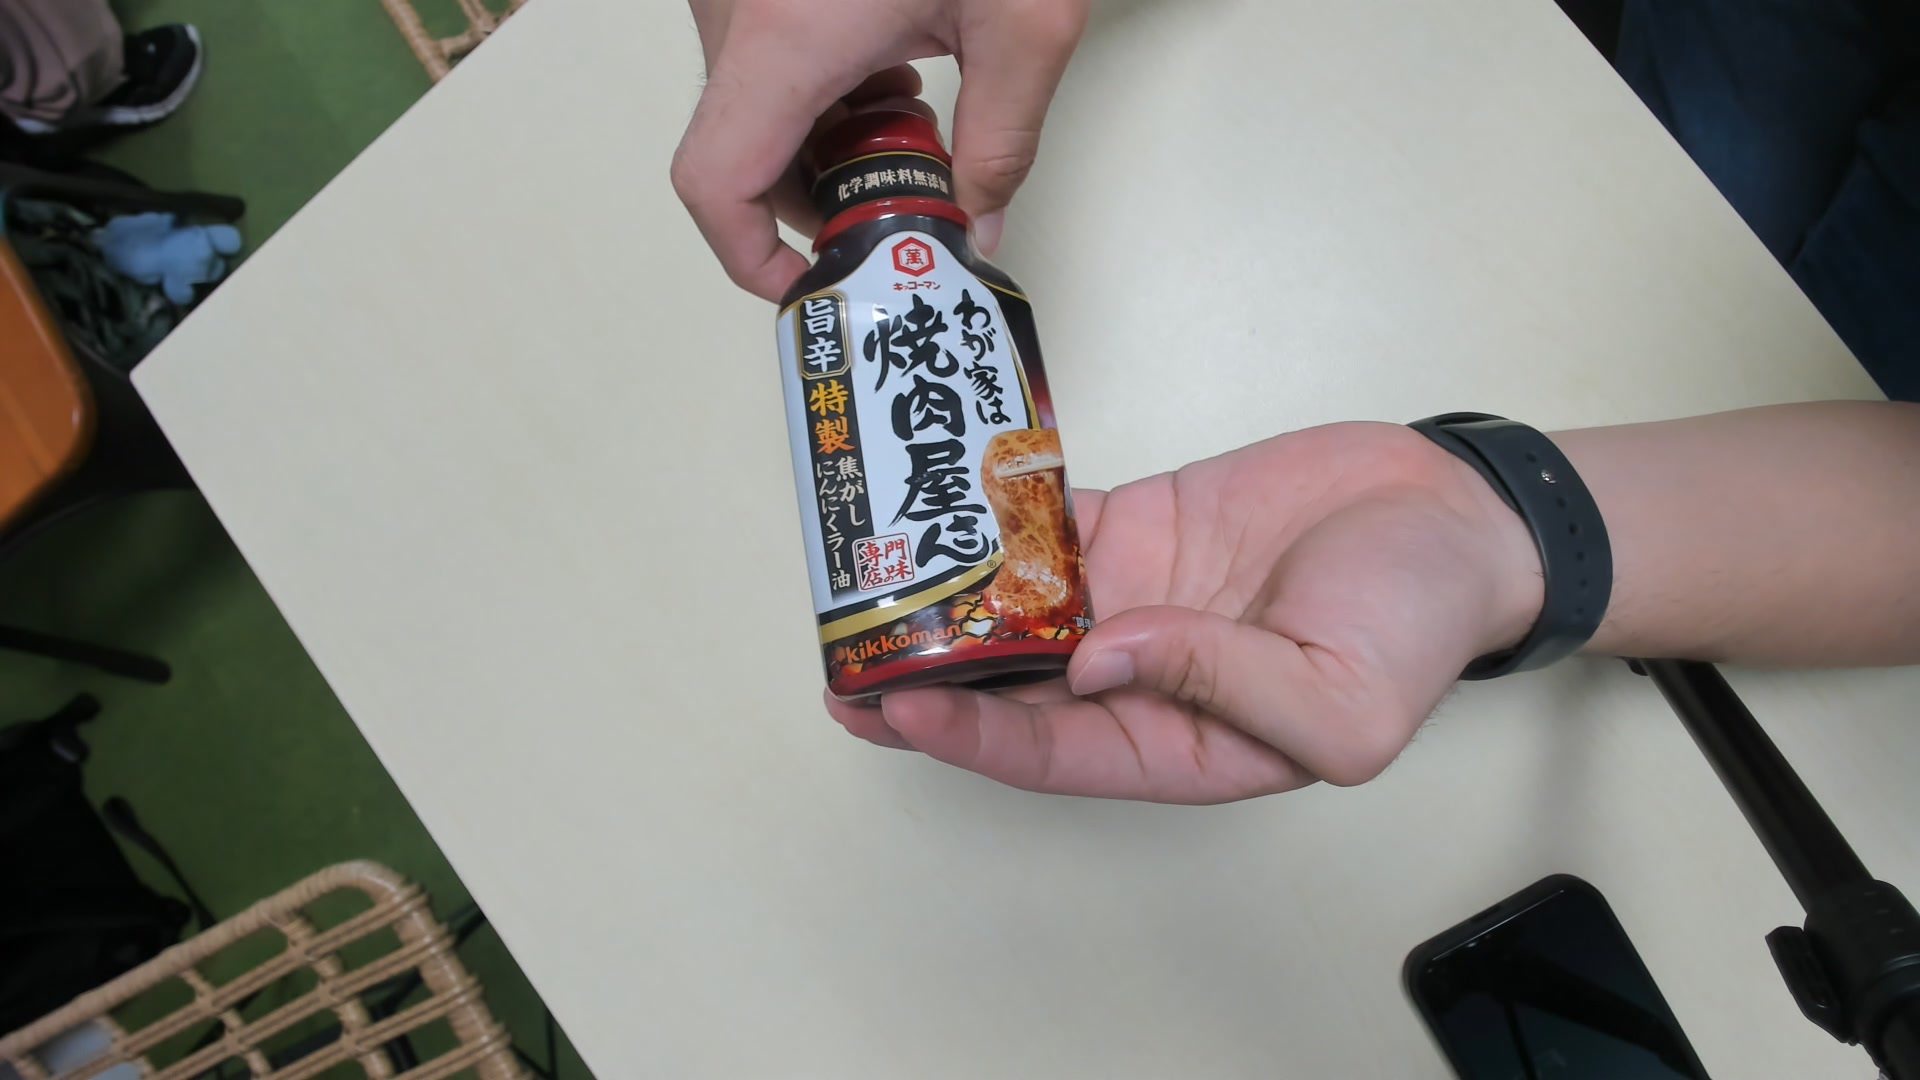OtherSauceDressing_200-299g_NonHalal_NonHealthy: (789, 91, 1096, 702)
